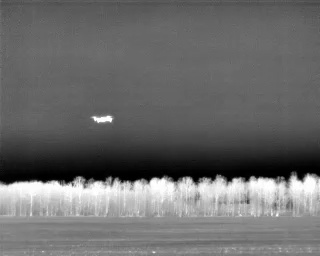DRONE: (88, 109, 117, 128)
